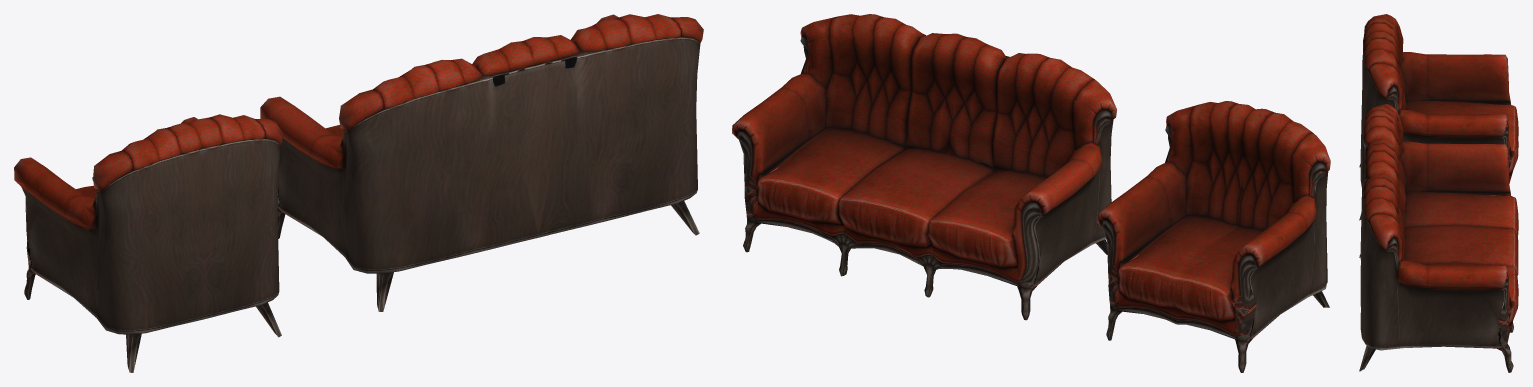
Rendered from sofa1.FBX.
The picture shows the model from 3 angles, left to right: view 1: azimuth 30°, elevation 25°; view 2: azimuth 150°, elevation 25°; view 3: azimuth 270°, elevation 25°; orthographic projection. The views are drawn at different scales.
Visible parts, largest first — view 1: default, default001; view 2: default, default001; view 3: default, default001.
Boxes of the visible parts, left/top/right/bottom form: default: left=260, top=14, right=703, bottom=311; default001: left=14, top=114, right=282, bottom=372; default: left=732, top=14, right=1116, bottom=320; default001: left=1097, top=101, right=1330, bottom=372; default: left=1359, top=104, right=1518, bottom=372; default001: left=1359, top=14, right=1518, bottom=220.
Size of the model in its own units: 130 by 44.99 by 39.53.
